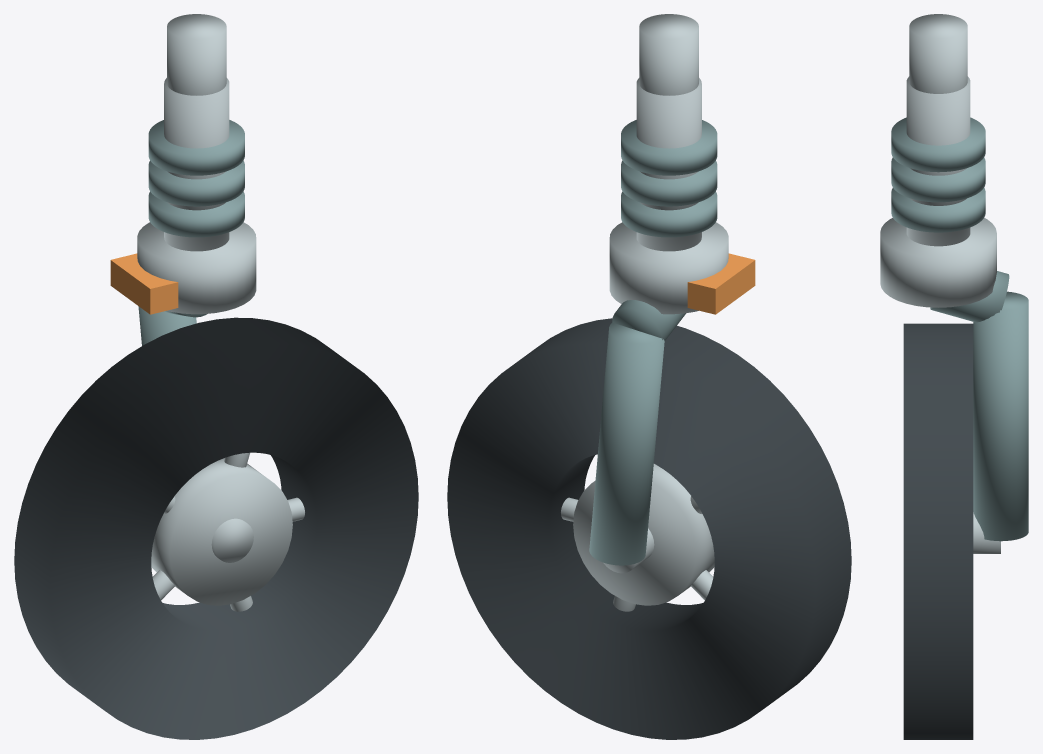
The model's file is wheel-front-left-s.glb.
3 renders of one model, left to right at view 1: azimuth 30°, elevation 25°; view 2: azimuth 150°, elevation 25°; view 3: azimuth 270°, elevation 25°, orthographic. The views are drawn at different scales.
Parts seen in each view (by area): view 1: FL_tire.009, FL_sealed_hub.009, FL_steering_bearing.009, vertical_front_guide_-1.010, vertical_front_spigot_-1.010, front_light_elastomer_-1_2.010, front_light_elastomer_-1_0.010, front_light_elastomer_-1_1.010, FL_straight_lock.009, FL_captive_axle.009, FL_fork.009; view 2: FL_tire.009, FL_fork.009, FL_sealed_hub.009, FL_steering_bearing.009, vertical_front_guide_-1.010, vertical_front_spigot_-1.010, front_light_elastomer_-1_2.010, front_light_elastomer_-1_0.010, front_light_elastomer_-1_1.010, FL_straight_lock.009, FL_fork_bridge.009; view 3: FL_tire.009, FL_fork.009, FL_steering_bearing.009, vertical_front_guide_-1.010, vertical_front_spigot_-1.010, front_light_elastomer_-1_2.010, front_light_elastomer_-1_1.010, front_light_elastomer_-1_0.010, FL_fork_bridge.009, FL_captive_axle.009.
Boxes of the visible parts, left/top/right/bottom form: FL_tire.009: left=14, top=317, right=418, bottom=739; FL_sealed_hub.009: left=151, top=458, right=292, bottom=605; FL_steering_bearing.009: left=137, top=222, right=256, bottom=314; vertical_front_guide_-1.010: left=164, top=78, right=229, bottom=251; vertical_front_spigot_-1.010: left=167, top=14, right=226, bottom=95; front_light_elastomer_-1_2.010: left=148, top=120, right=244, bottom=175; front_light_elastomer_-1_0.010: left=148, top=191, right=244, bottom=237; front_light_elastomer_-1_1.010: left=148, top=160, right=244, bottom=206; FL_straight_lock.009: left=110, top=253, right=178, bottom=314; FL_captive_axle.009: left=211, top=518, right=253, bottom=562; FL_fork.009: left=138, top=306, right=196, bottom=345; FL_tire.009: left=447, top=318, right=851, bottom=739; FL_fork.009: left=589, top=322, right=664, bottom=565; FL_sealed_hub.009: left=573, top=464, right=714, bottom=605; FL_steering_bearing.009: left=609, top=222, right=728, bottom=314; vertical_front_guide_-1.010: left=636, top=78, right=701, bottom=251; vertical_front_spigot_-1.010: left=639, top=14, right=698, bottom=95; front_light_elastomer_-1_2.010: left=621, top=120, right=717, bottom=175; front_light_elastomer_-1_0.010: left=621, top=191, right=717, bottom=237; front_light_elastomer_-1_1.010: left=621, top=160, right=717, bottom=206; FL_straight_lock.009: left=687, top=253, right=755, bottom=314; FL_fork_bridge.009: left=612, top=300, right=685, bottom=340; FL_tire.009: left=903, top=323, right=973, bottom=739; FL_fork.009: left=973, top=291, right=1028, bottom=541; FL_steering_bearing.009: left=880, top=217, right=996, bottom=307; vertical_front_guide_-1.010: left=906, top=76, right=970, bottom=246; vertical_front_spigot_-1.010: left=909, top=14, right=967, bottom=93; front_light_elastomer_-1_2.010: left=891, top=117, right=985, bottom=172; front_light_elastomer_-1_1.010: left=891, top=157, right=985, bottom=202; front_light_elastomer_-1_0.010: left=891, top=188, right=985, bottom=232; FL_fork_bridge.009: left=930, top=271, right=1009, bottom=322; FL_captive_axle.009: left=973, top=512, right=1000, bottom=553.
Size of the model in its own units: 0.15 by 0.272 by 0.0535.
